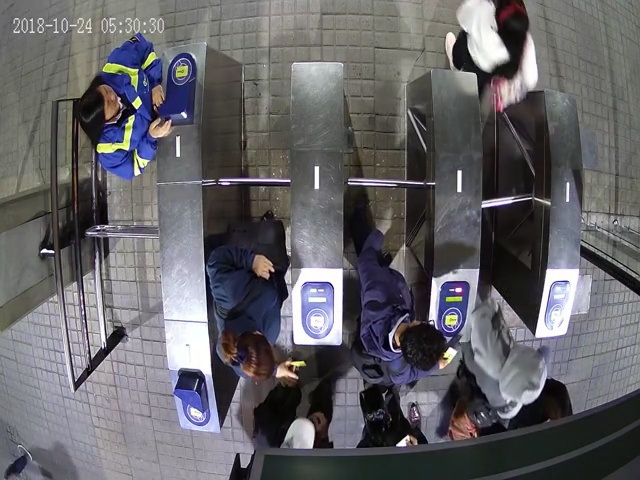Chaleco_azul: (77, 32, 173, 180)
